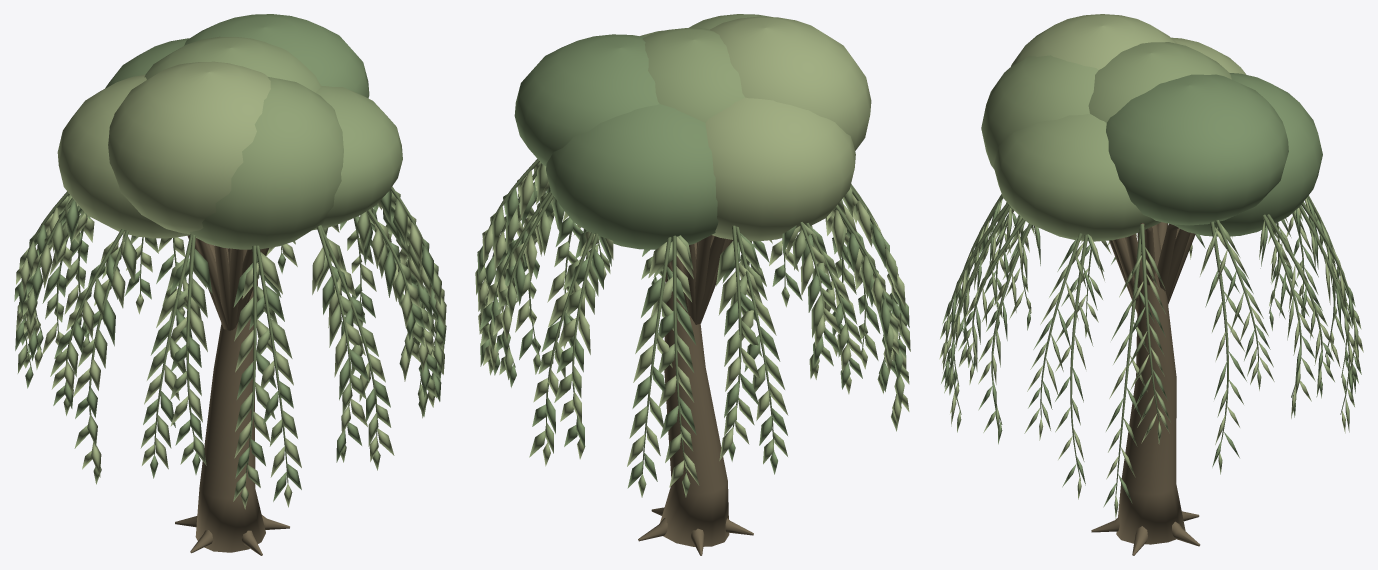
Rendered from willow.glb.
3 views of the same model, side by side, from view 1: azimuth 30°, elevation 25°; view 2: azimuth 150°, elevation 25°; view 3: azimuth 270°, elevation 25° (orthographic). The views are drawn at different scales.
Parts seen in each view (by area): view 1: willow_World_Mesh; view 2: willow_World_Mesh; view 3: willow_World_Mesh.
Part boxes in pixels (bbox=[...]): willow_World_Mesh: bbox=[14, 14, 446, 555]; willow_World_Mesh: bbox=[475, 14, 910, 555]; willow_World_Mesh: bbox=[939, 14, 1363, 555].
Bounding box in the file's own units: 2.8 × 3.53 × 2.78.
